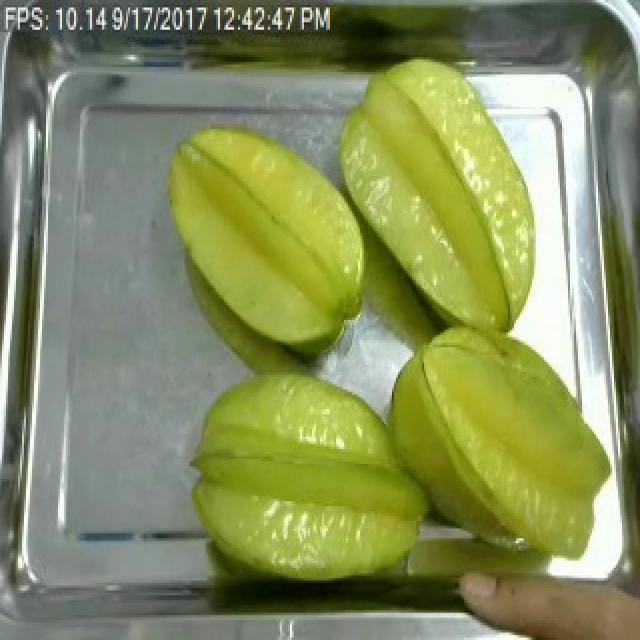fruit: (320, 44, 546, 344), (178, 357, 446, 598), (378, 308, 624, 570), (156, 114, 382, 360)
